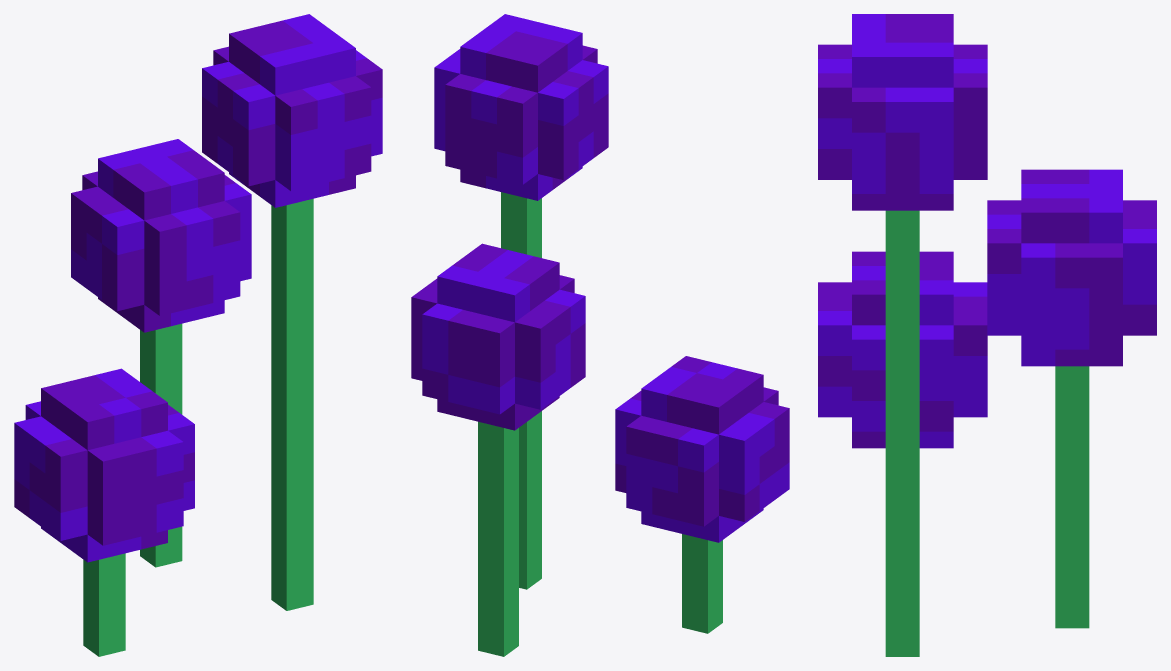
The model's file is map_v1-20.obj.
3 renders of one model, left to right at view 1: azimuth 30°, elevation 25°; view 2: azimuth 150°, elevation 25°; view 3: azimuth 270°, elevation 25°, orthographic. The views are drawn at different scales.
Size of the model in its own units: 1.2 by 2 by 1.
1 material, 1 textured.
